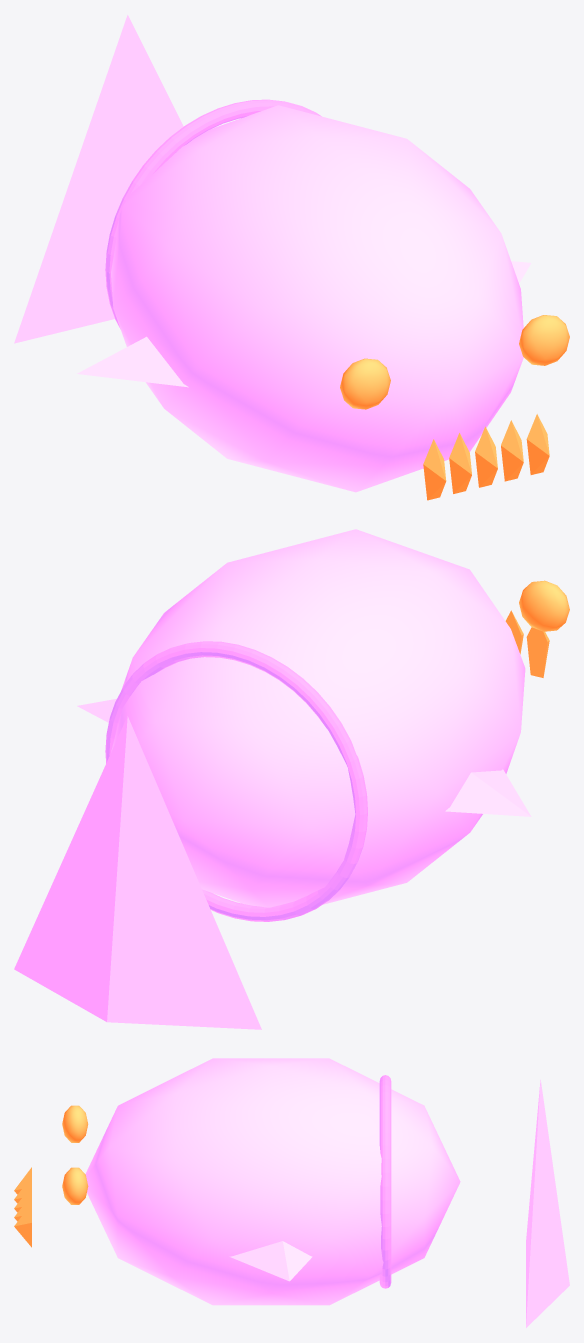
Rendered from ink-maw.glb.
3 views of the same model, one above another, from view 1: azimuth 30°, elevation 25°; view 2: azimuth 150°, elevation 25°; view 3: azimuth 270°, elevation 25° (orthographic). The views are drawn at different scales.
Parts seen in each view (by area): view 1: body, swim-tail, biolight-ring.002, swim-fin--1, eye--1, eye-1, fang-1, fang-2, fang--1, fang-0, fang--2; view 2: body, swim-tail, biolight-ring.002, swim-fin--1, eye--1, fang--2; view 3: body, swim-tail, biolight-ring.002, swim-fin-1, eye-1, eye--1, fang-2.
Boxes of the visible parts, x1,y1,x2,y2 form: body: (111, 105, 523, 492); swim-tail: (14, 15, 183, 343); biolight-ring.002: (105, 99, 321, 328); swim-fin--1: (77, 336, 188, 387); eye--1: (340, 358, 390, 409); eye-1: (519, 315, 569, 365); fang-1: (501, 420, 523, 481); fang-2: (526, 414, 549, 474); fang--1: (449, 433, 471, 493); fang-0: (475, 426, 497, 487); fang--2: (423, 439, 446, 500); body: (111, 529, 525, 907); swim-tail: (14, 716, 261, 1029); biolight-ring.002: (105, 641, 367, 921); swim-fin--1: (445, 769, 531, 816); eye--1: (519, 580, 569, 631); fang--2: (526, 627, 549, 677); body: (85, 1058, 460, 1305); swim-tail: (526, 1080, 569, 1327); biolight-ring.002: (379, 1075, 391, 1288); swim-fin-1: (229, 1241, 312, 1281); eye-1: (62, 1167, 88, 1204); eye--1: (62, 1105, 88, 1142); fang-2: (14, 1203, 31, 1247).
Bounding box in the file's own units: 2.29 × 1.56 × 3.4.
